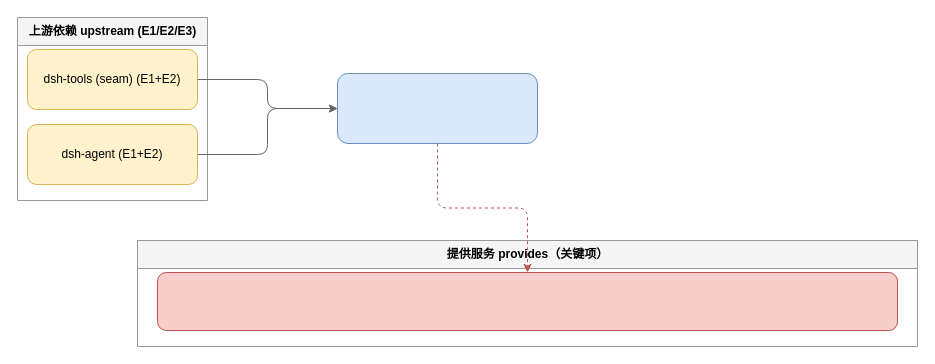
Some shapes in this 935 by 364 pixel diagram are drawn without their labels. Here are the shapes that lost their labels. From the top down, the centre of each, then its label:
point 437,108: @deepseek-ai/dsh-tool-bash-persistent
point 527,301: tool: bash（owner 作用域持久 shell）
